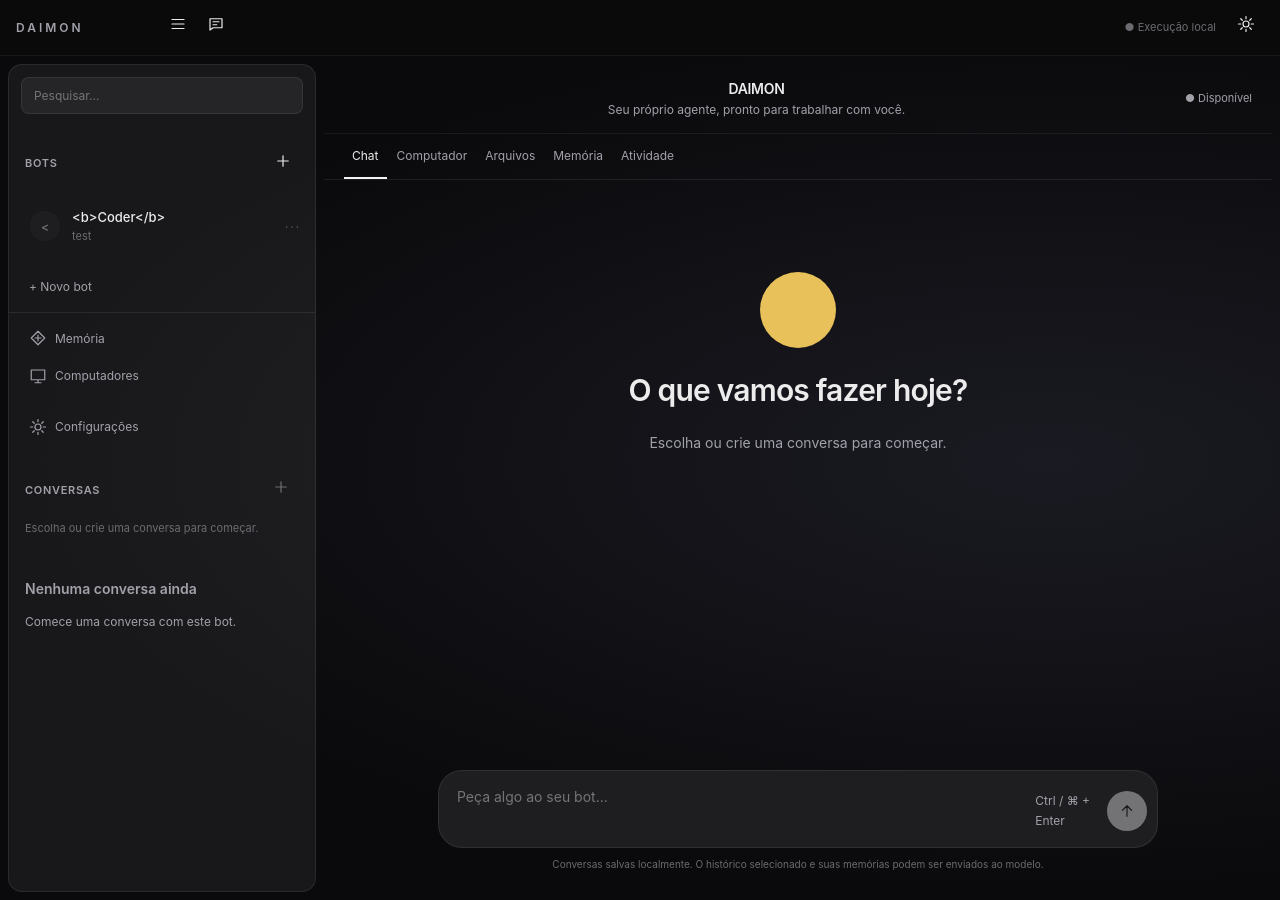
Test: renders saved user/assistant text and keeps runtime activity separate
What coordinates should you click on to do the following:
click the text "<b>Coder</b>"
I would click on:
 (119, 218)
Its box is [72, 207, 165, 228].
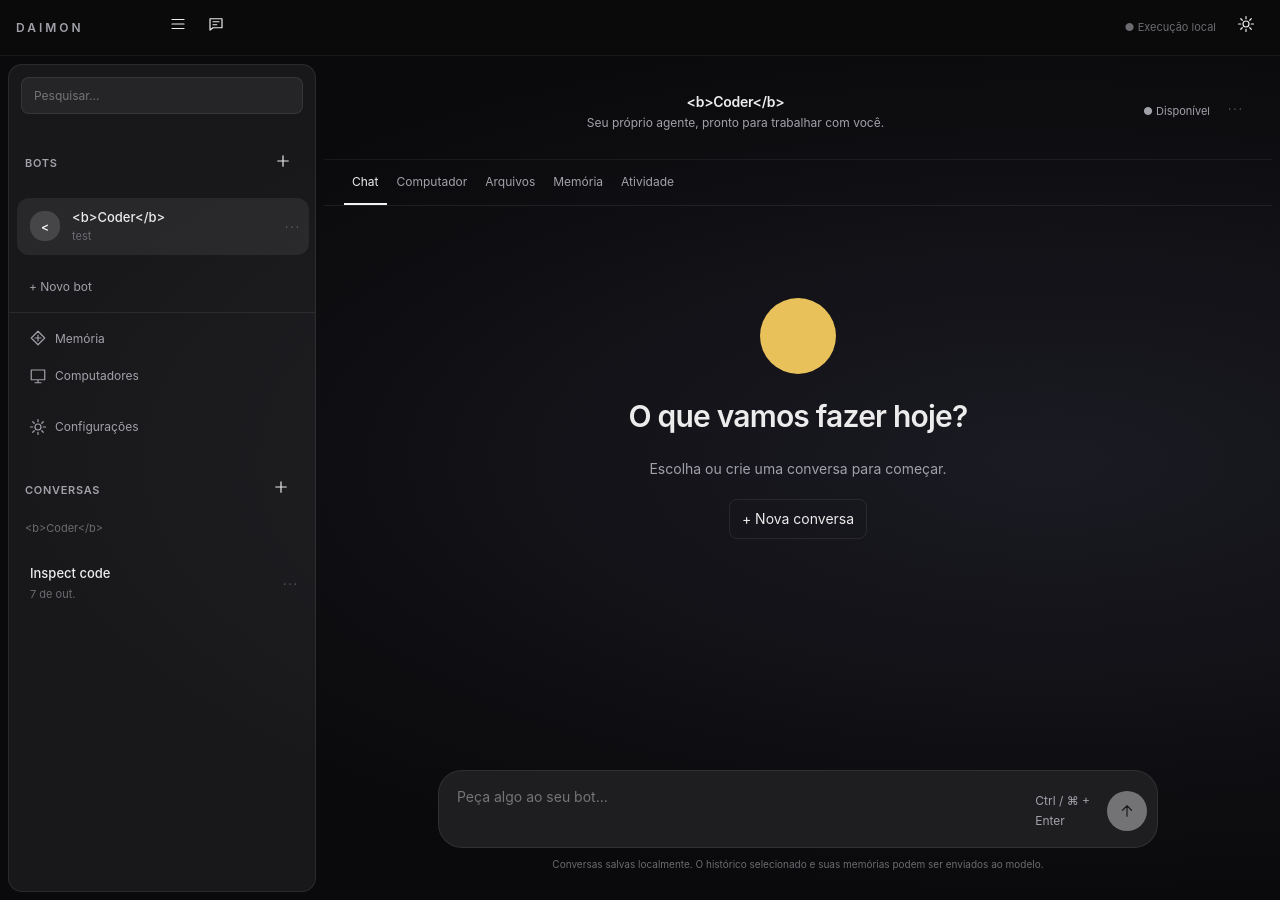
What coordinates should you click on to do the following:
click the text "Inspect code"
I would click on:
 (70, 573)
Its box is [30, 565, 110, 581].
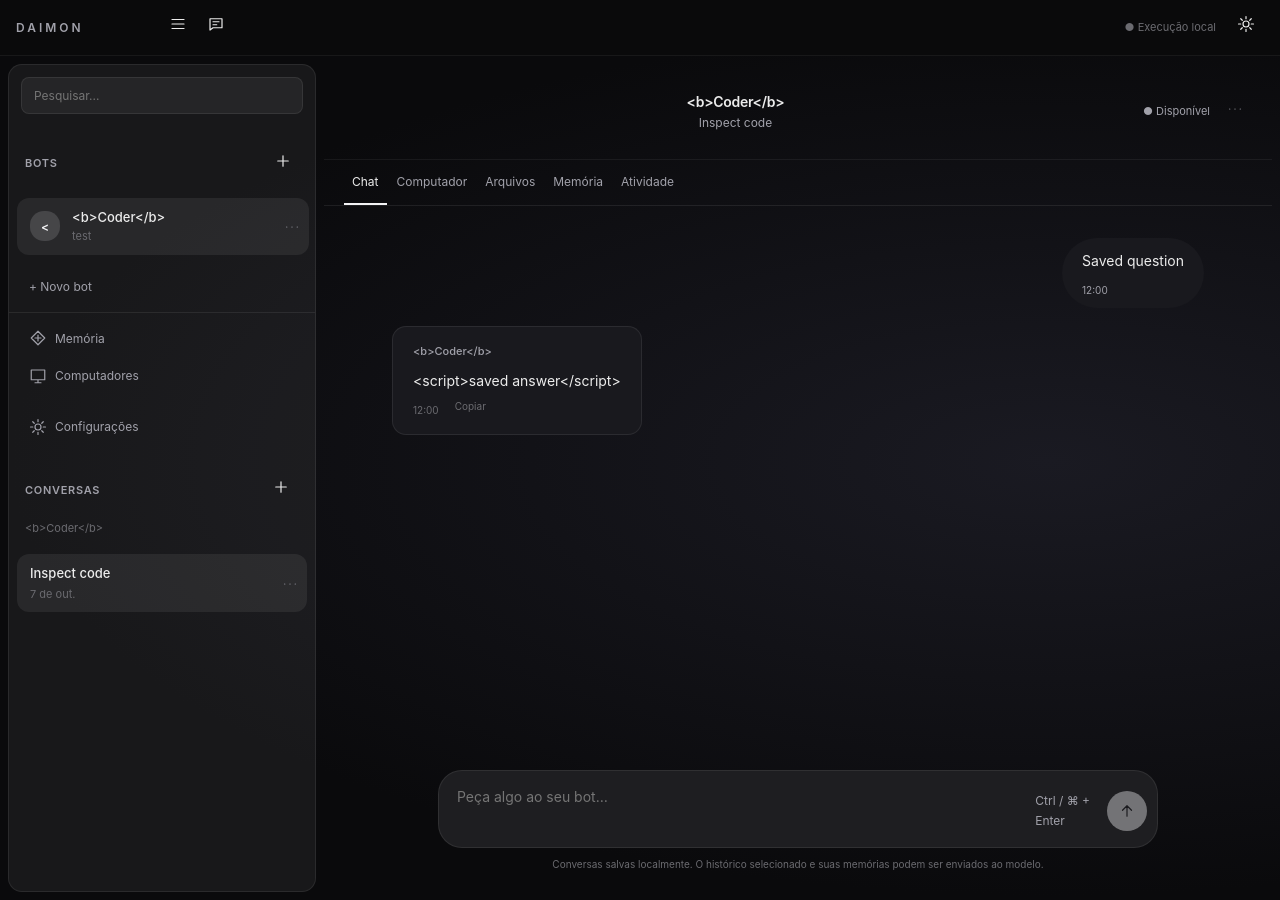
Now the text "Saved question" is shown, box [1082, 248, 1184, 274]
Now the text "<script>saved answer</script>" is shown, box [413, 368, 621, 394]
Now the number of elements with class "user" is 1, box [1062, 238, 1204, 308]
